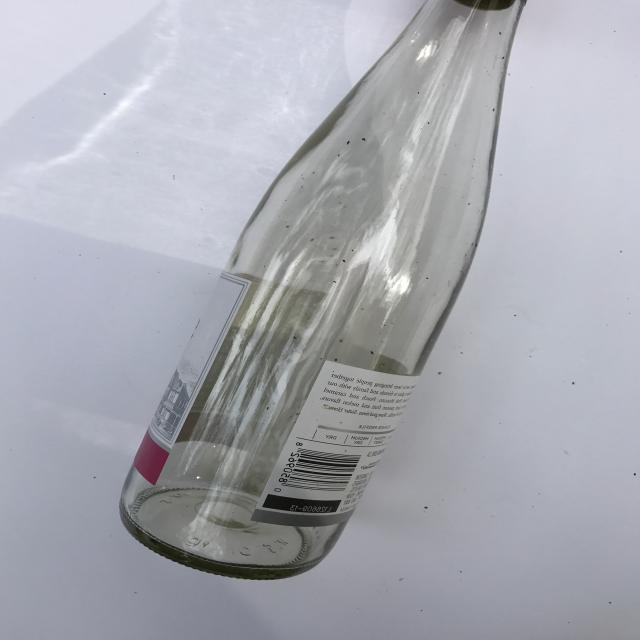glass: (118, 0, 537, 581)
